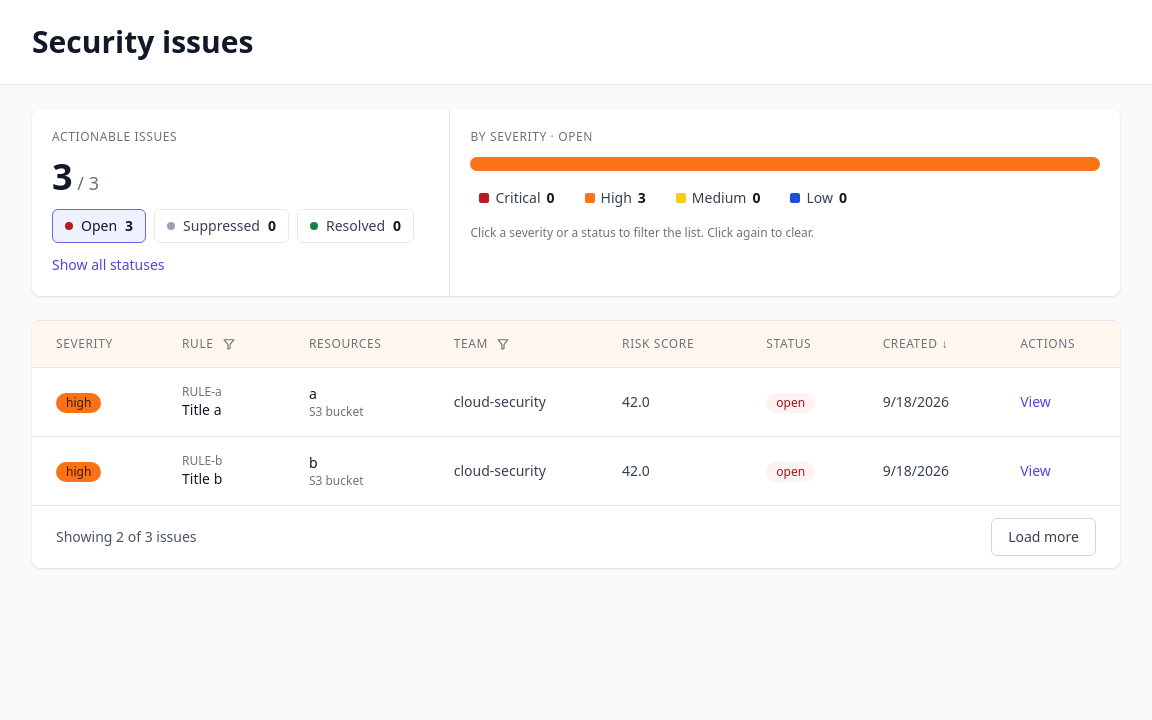
Test case: IssuesPage › shows how many of the total are loaded and appends the next page on request
Expected: the text "Showing 2 of 3 issues" is shown, [56, 527, 197, 547]
Click the button "Load more" at (1044, 537), box [991, 518, 1096, 556]
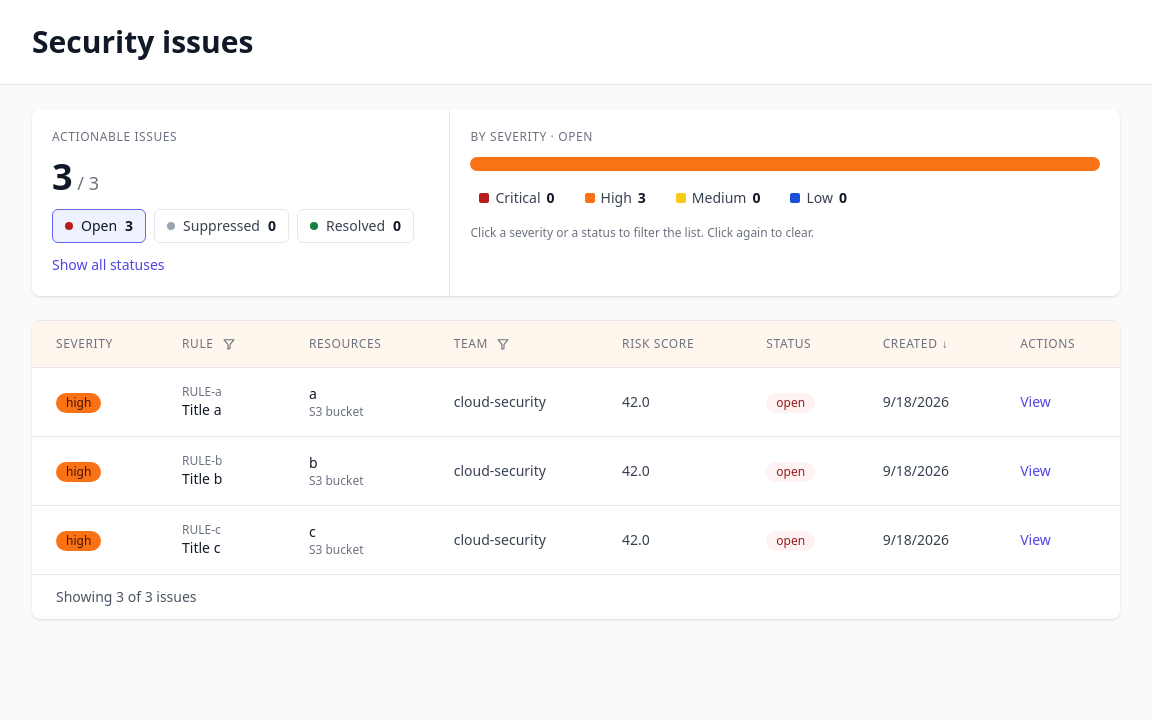
Expected: the text "Showing 3 of 3 issues" is shown, [56, 587, 197, 607]
Expected: the cell "RULE-c Title c" is shown, [158, 506, 285, 574]
Expected: the button "Load more" is gone
